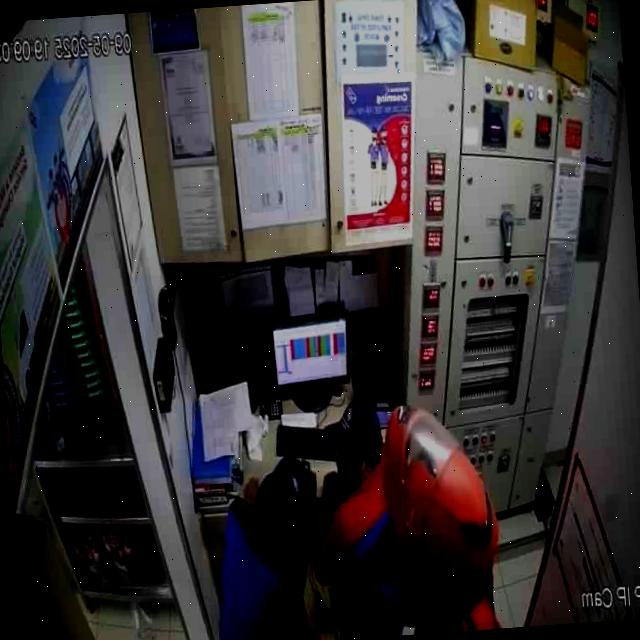helmet: (379, 402, 502, 619)
